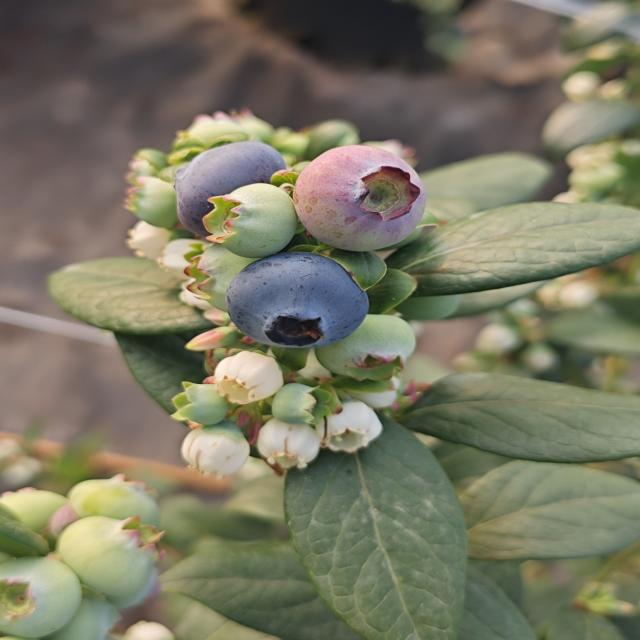ripe: (227, 257, 365, 354), (166, 142, 280, 212)
